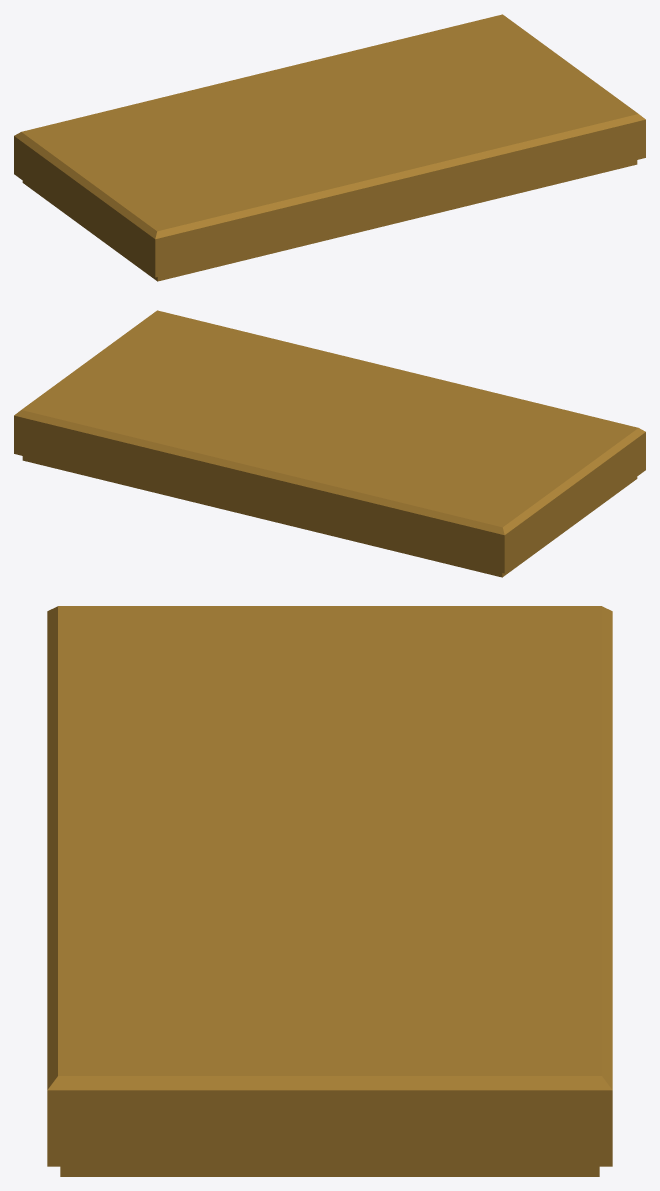
The model's file is 2x4 Plate.dae.
3 renders of one model, top to bottom at view 1: azimuth 30°, elevation 25°; view 2: azimuth 150°, elevation 25°; view 3: azimuth 270°, elevation 25°, orthographic. The views are drawn at different scales.
Parts seen in each view (by area): view 1: Part.0; view 2: Part.0; view 3: Part.0.
Part boxes in pixels (<box>): Part.0: <box>14,14,645,281</box>; Part.0: <box>14,310,645,577</box>; Part.0: <box>47,606,612,1176</box>.
Bounding box in the file's own units: 31.92 × 3.16 × 15.92.
